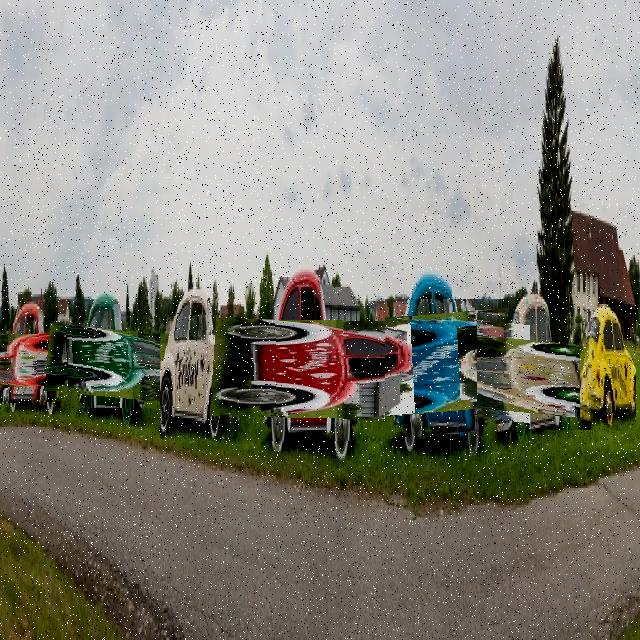car: (242, 296, 386, 442), (368, 300, 509, 441), (478, 314, 594, 431), (161, 294, 245, 440), (66, 312, 162, 409), (581, 305, 637, 432), (1, 318, 79, 405)
